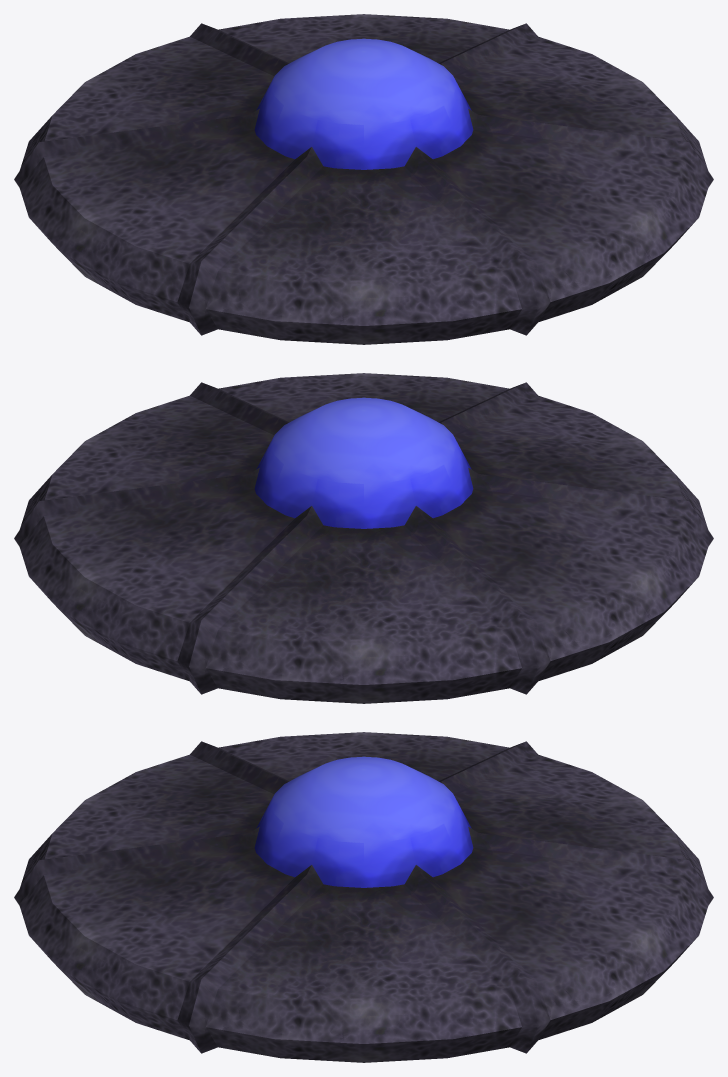
File: roids.glb
3 renders of one model, top to bottom at view 1: azimuth 30°, elevation 25°; view 2: azimuth 150°, elevation 25°; view 3: azimuth 270°, elevation 25°, orthographic.
Visible parts, largest first — view 1: ufo4-mesh; view 2: ufo4-mesh; view 3: ufo4-mesh.
Part boxes in pixels (box(x1,y1,x2,y2)): ufo4-mesh: box(14, 14, 713, 344); ufo4-mesh: box(14, 373, 713, 703); ufo4-mesh: box(14, 732, 713, 1062).
Bounding box in the file's own units: 2.15 × 0.8775 × 2.17.
Materials: 1 (1 with a texture image).
